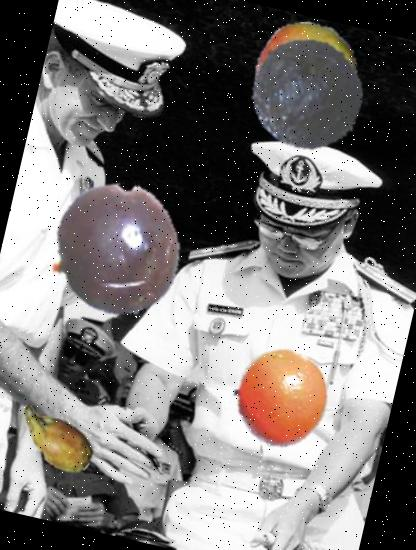Avocado: (236, 22, 386, 171)
Cactus: (2, 386, 108, 491)
Passion: (33, 169, 197, 333)
Pear: (242, 10, 372, 141)
Tangelo: (220, 338, 340, 458)
